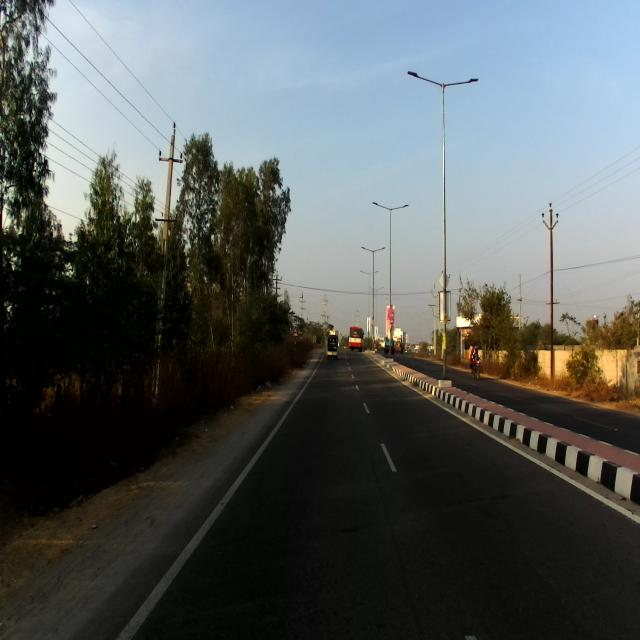electric pole ahead at: (144, 112, 196, 420)
